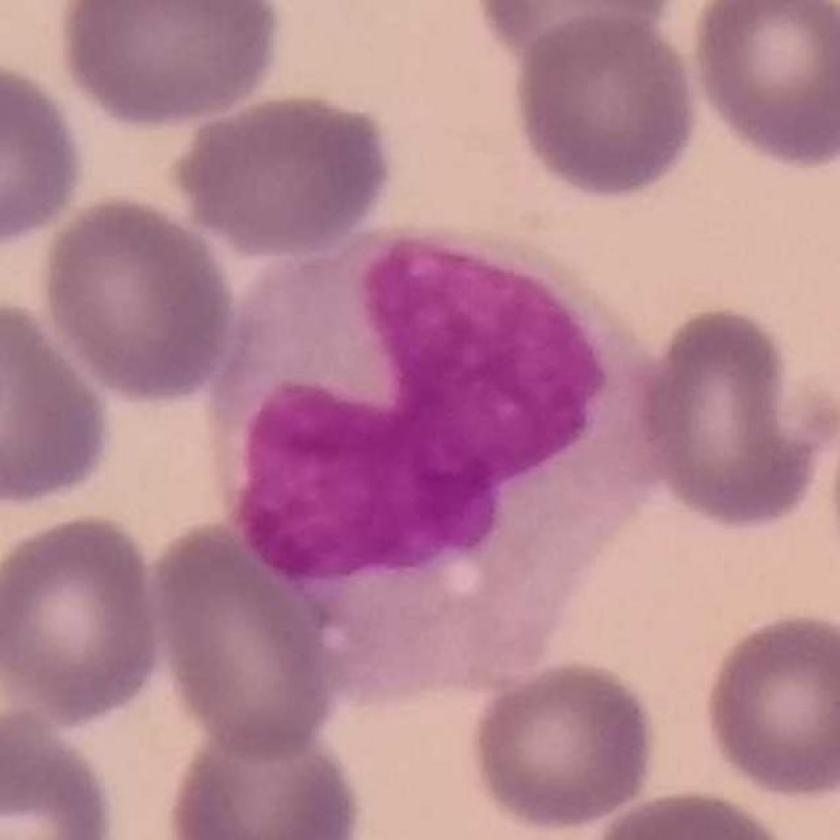monocyte: (207, 207, 670, 699)
